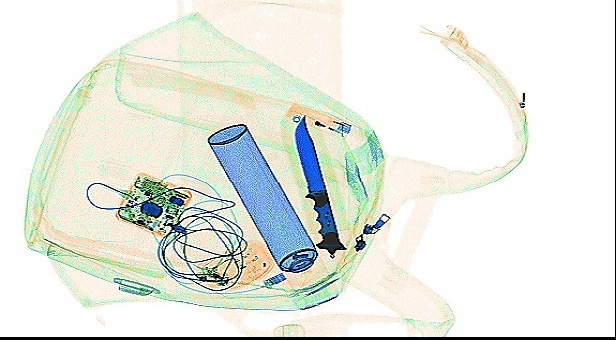knife: (292, 111, 346, 258)
lighter: (284, 100, 351, 139)
pressure: (205, 122, 330, 294)
